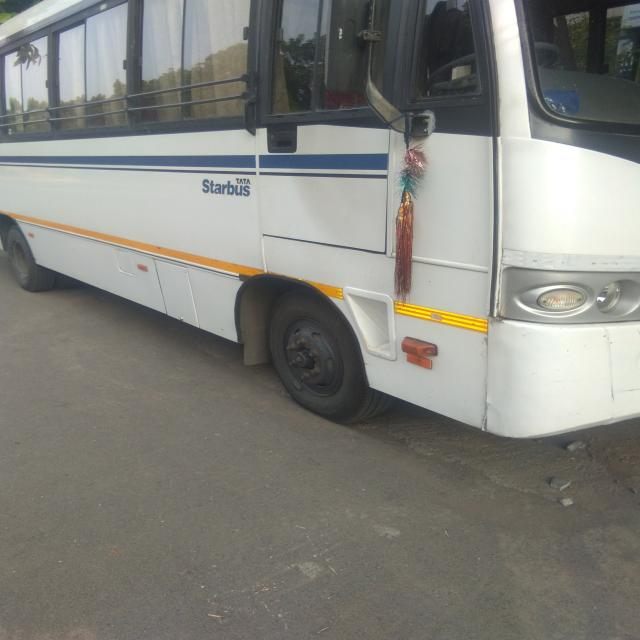Bus: (0, 0, 640, 447)
